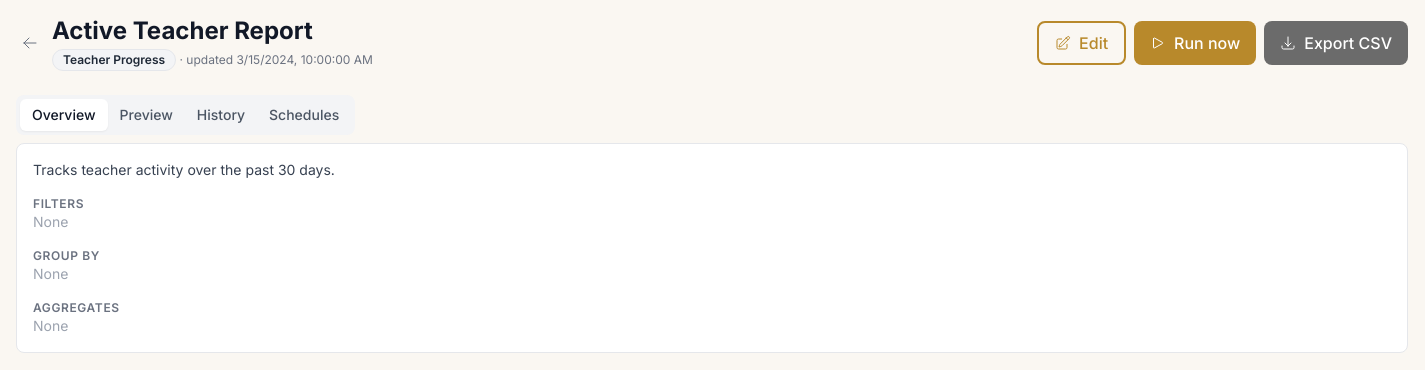
Test: ReportBuilderDetailPage › Preview tab: shows "Click Run now" prompt before any run
The width and height of the screenshot is (1425, 370).
expect the heading "Active Teacher Report" is shown: met, box [52,16,313,45]
Click the tab "Preview". click: (146, 115)
box: [108,99,185,131]
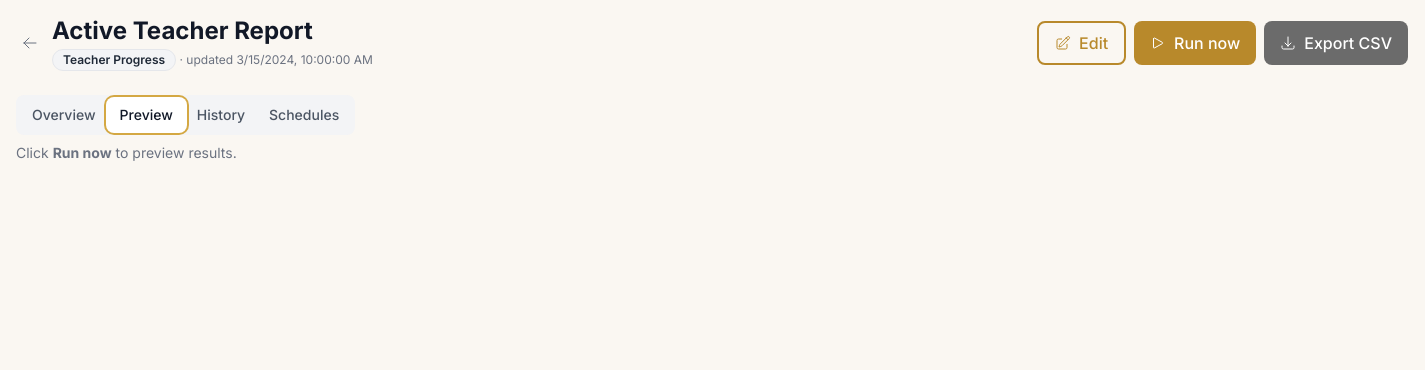
expect the element with test id "preview-panel" reads "Click Run now to preview results.": met, box [16,144,237,161]
